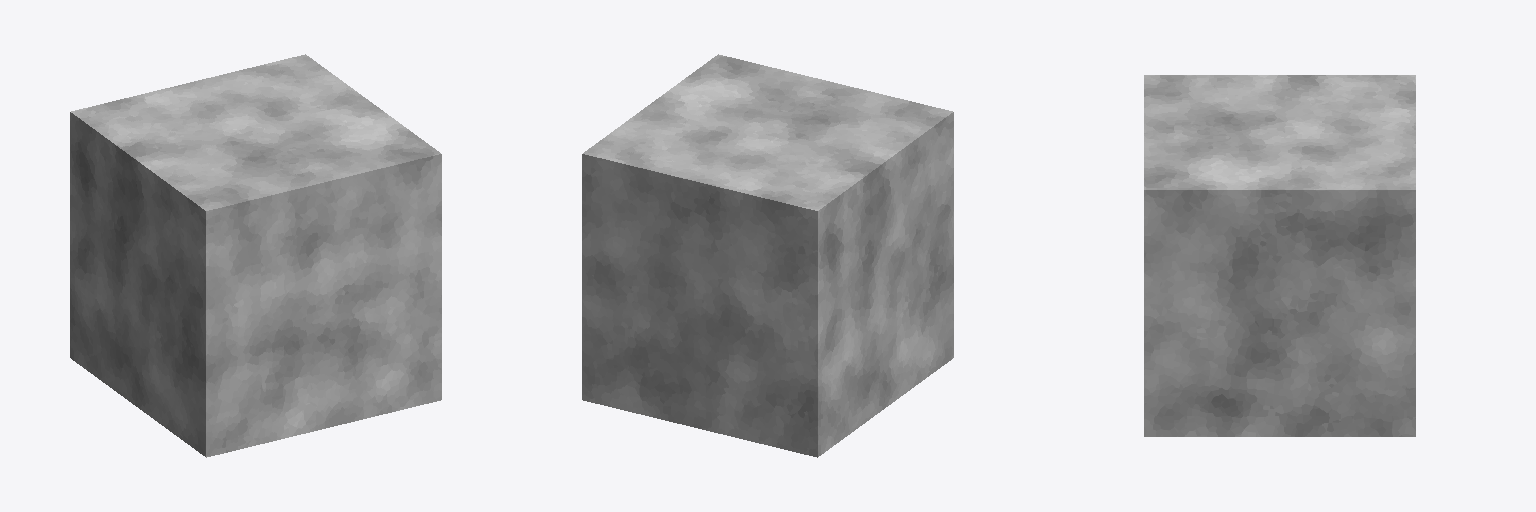
3 views of the same model, side by side, from view 1: azimuth 30°, elevation 25°; view 2: azimuth 150°, elevation 25°; view 3: azimuth 270°, elevation 25° (orthographic).
Parts seen in each view (by area): view 1: Cube; view 2: Cube; view 3: Cube.
Boxes of the visible parts, box(x1,y1,x2,y2) form: Cube: box(70, 54, 441, 457); Cube: box(582, 54, 953, 457); Cube: box(1144, 75, 1415, 436).
Bounding box in the file's own units: 2 × 2 × 2.
Materials: 1 (1 with a texture image).